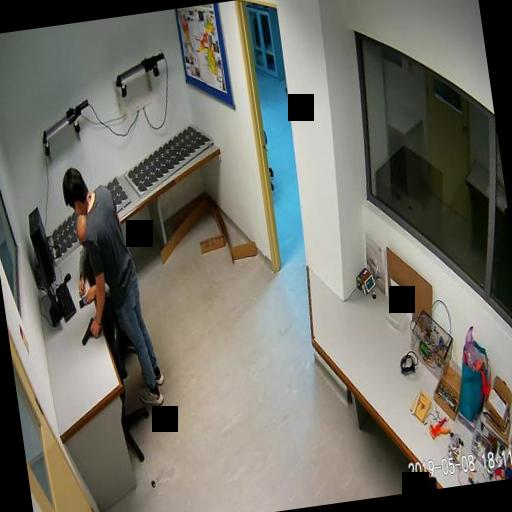Handgun: (76, 314, 102, 346)
